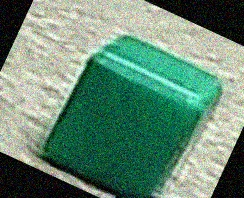green_cube: (38, 31, 219, 198)
